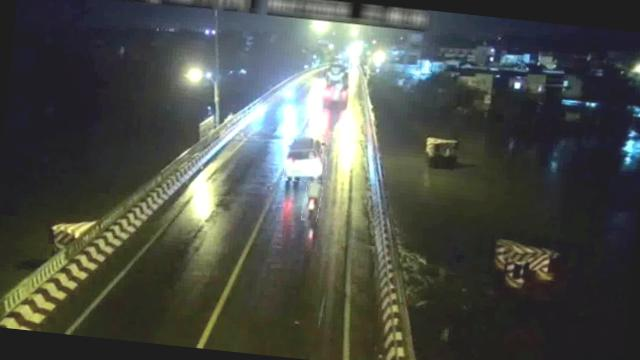Bike: (302, 173, 324, 222)
Car: (281, 132, 330, 184)
Truck: (323, 62, 353, 110)
